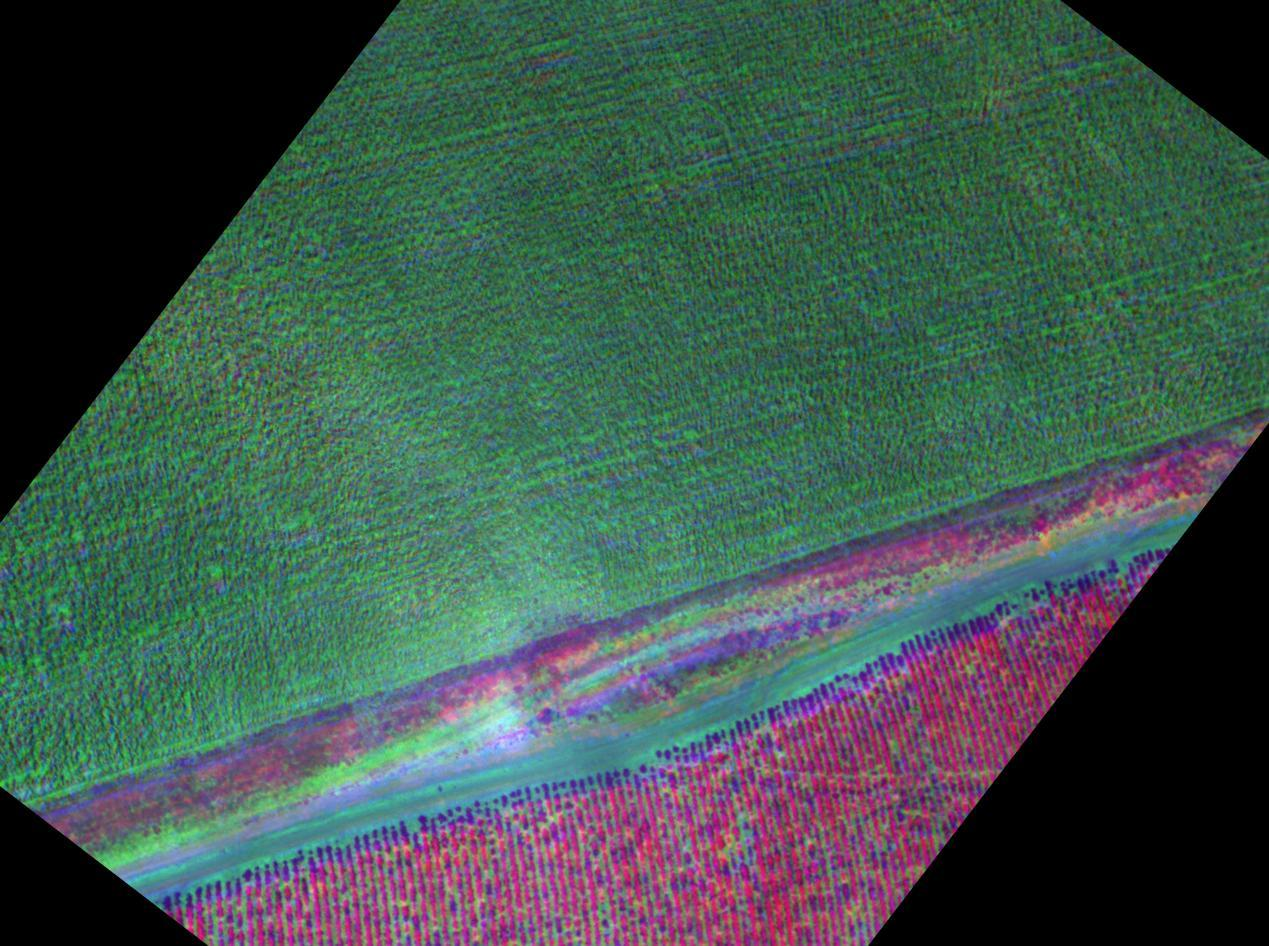dc: (877, 736, 940, 792), (720, 809, 764, 877), (566, 894, 619, 946), (327, 872, 371, 931), (204, 902, 257, 946)
